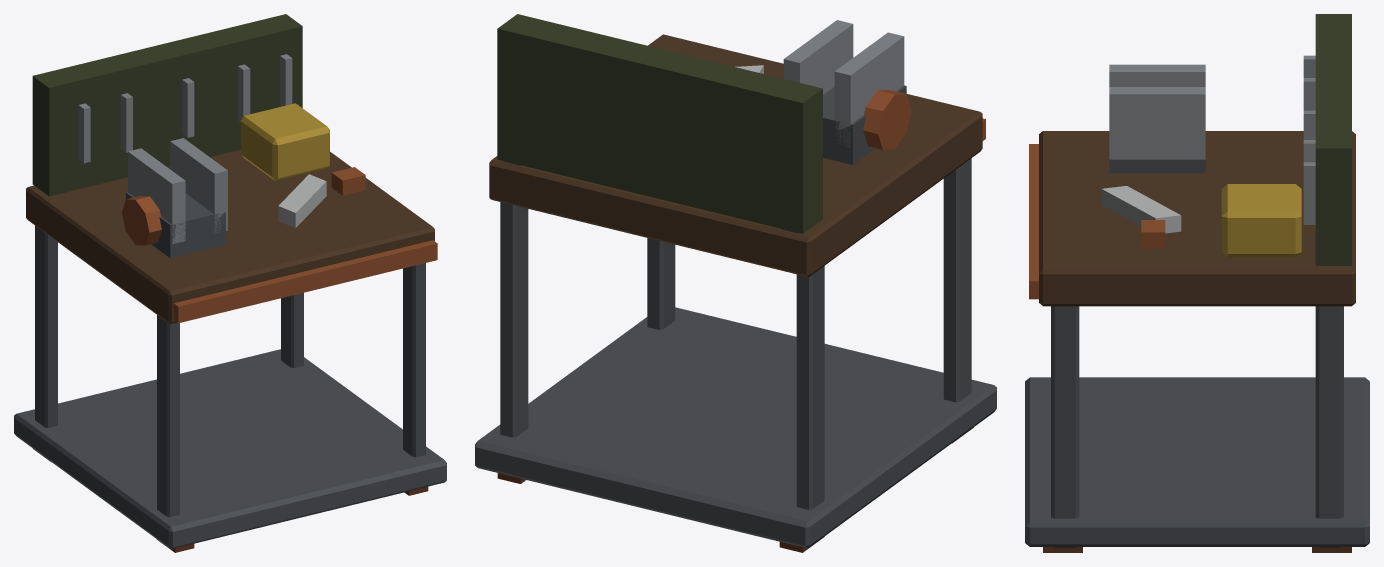
File: piece_repair.fbx
The picture shows the model from 3 angles, left to right: view 1: azimuth 30°, elevation 25°; view 2: azimuth 150°, elevation 25°; view 3: azimuth 270°, elevation 25°; orthographic projection. The views are drawn at different scales.
Parts seen in each view (by area): view 1: piece_repair; view 2: piece_repair; view 3: piece_repair.
Boxes of the visible parts, x1,y1,x2,y2 form: piece_repair: (14, 14, 446, 552); piece_repair: (475, 14, 996, 552); piece_repair: (1025, 14, 1369, 552).
Size of the model in its own units: 0.9667 by 1.24 by 0.9556.
